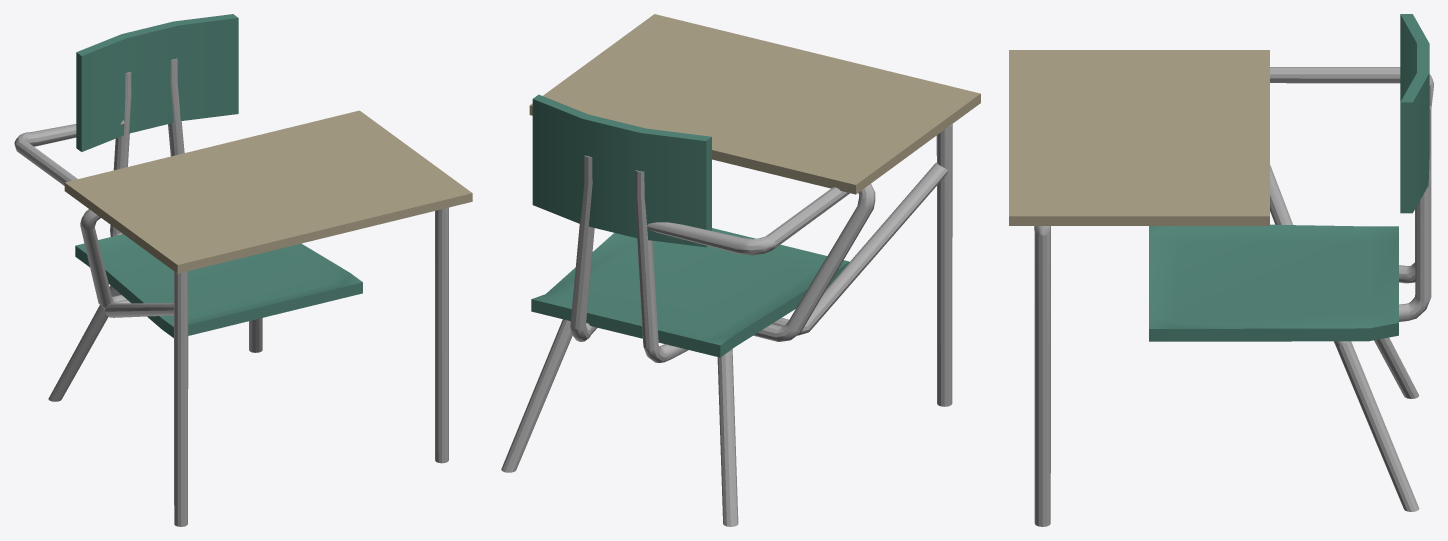
Rendered from desk.fbx.
3 renders of one model, left to right at view 1: azimuth 30°, elevation 25°; view 2: azimuth 150°, elevation 25°; view 3: azimuth 270°, elevation 25°, orthographic. The views are drawn at different scales.
Parts seen in each view (by area): view 1: desk2; view 2: desk2; view 3: desk2.
Part boxes in pixels (x1,y1,x2,y2): desk2: [14, 14, 472, 526]; desk2: [501, 14, 980, 526]; desk2: [1009, 14, 1433, 526].
Bounding box in the file's own units: 88.17 × 97.39 × 95.2.
